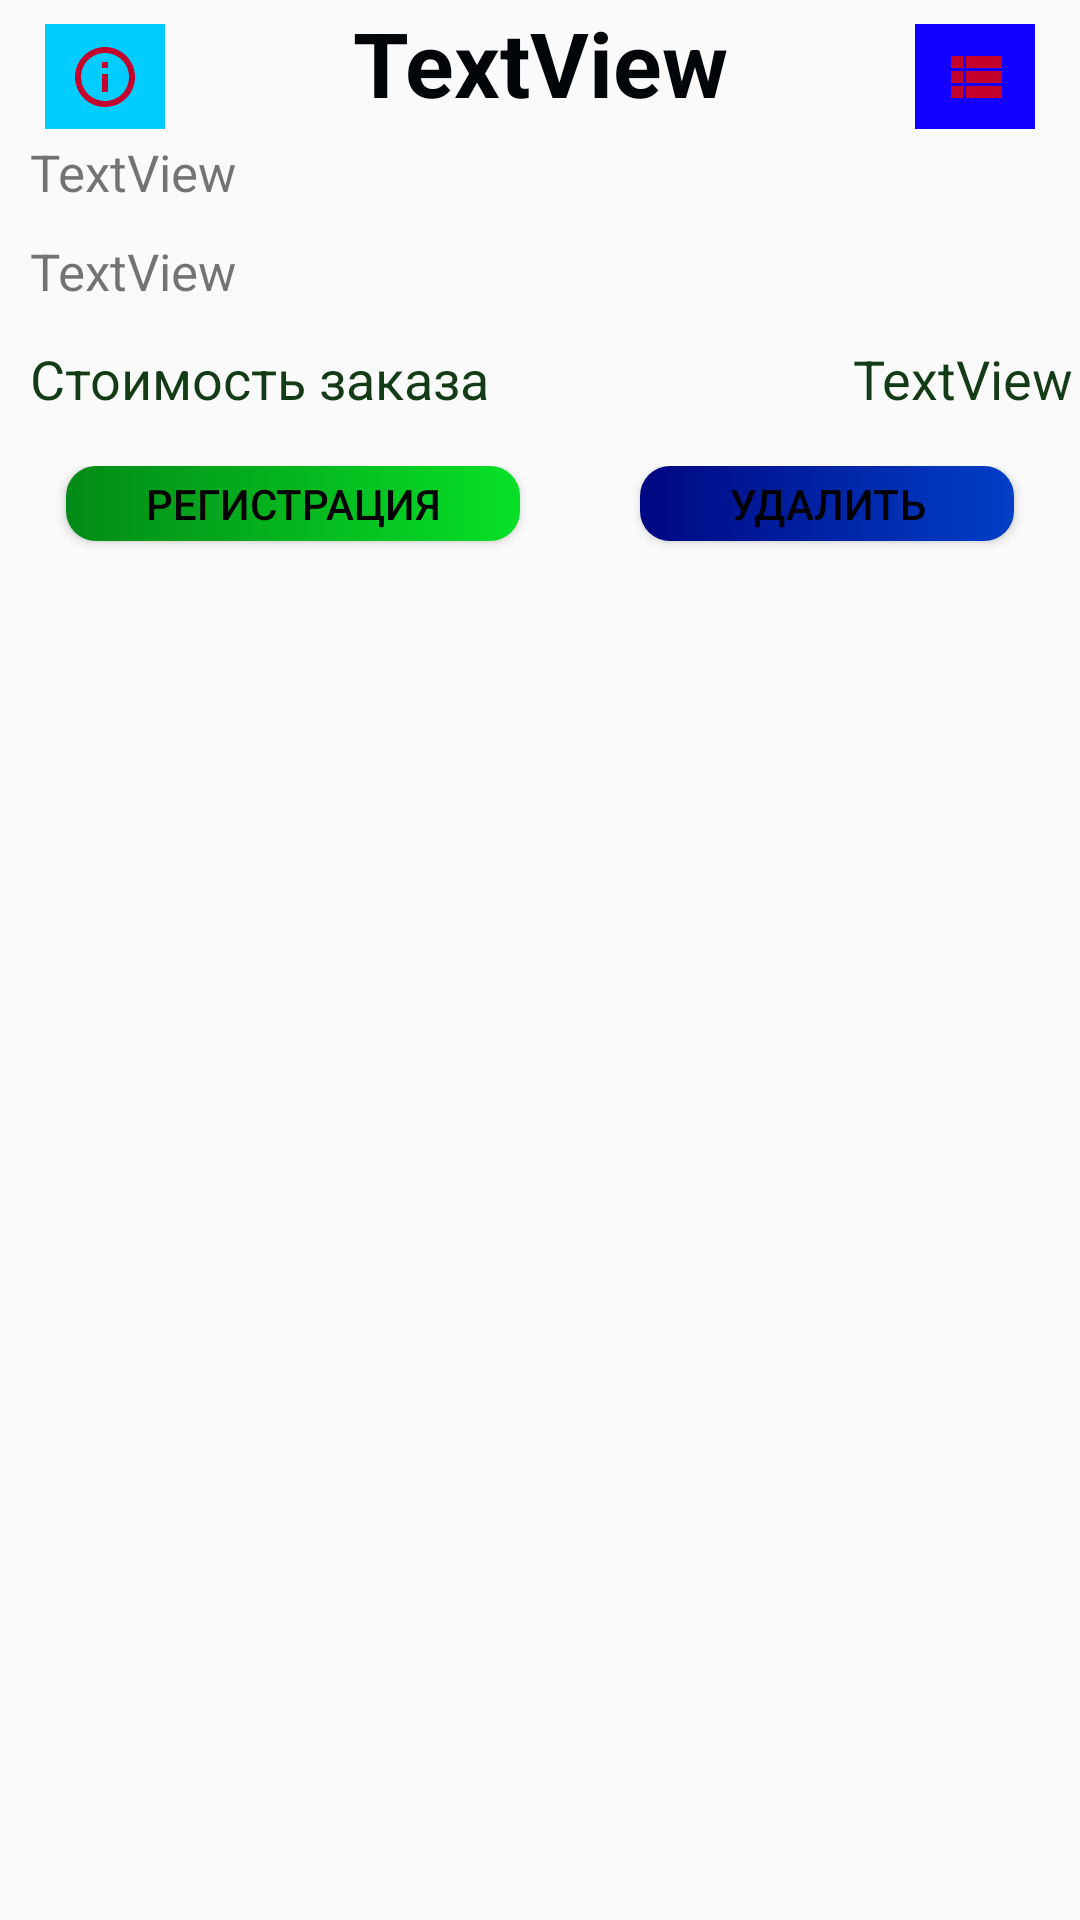

Where to tap for icons on this 1080*1920 app screen, as [x,y]:
info: [105,76]
list: [975,76]
